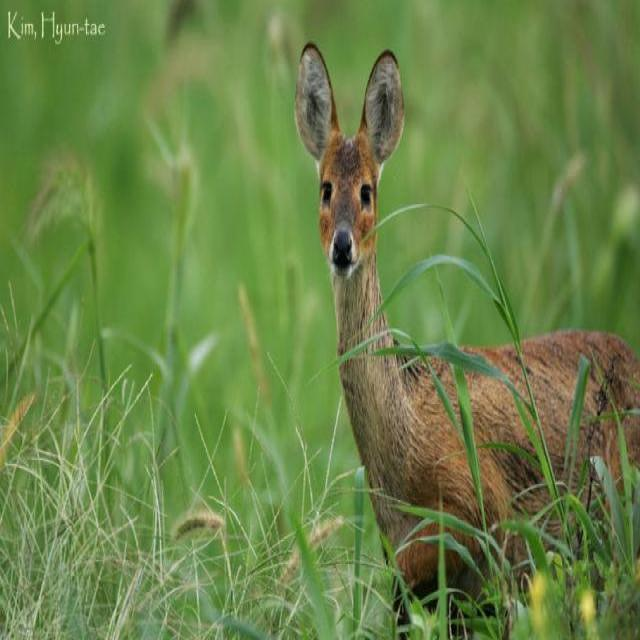deer: (281, 33, 640, 640)
